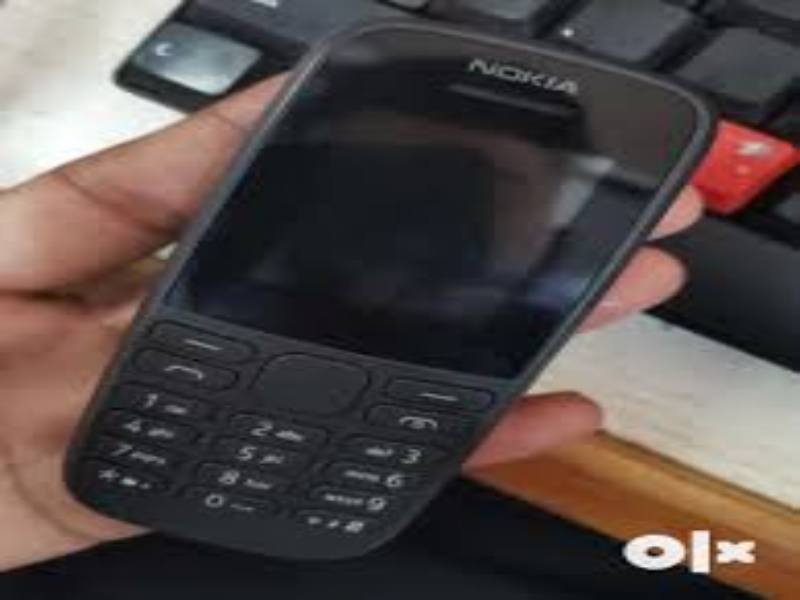mobile: (69, 8, 727, 566)
